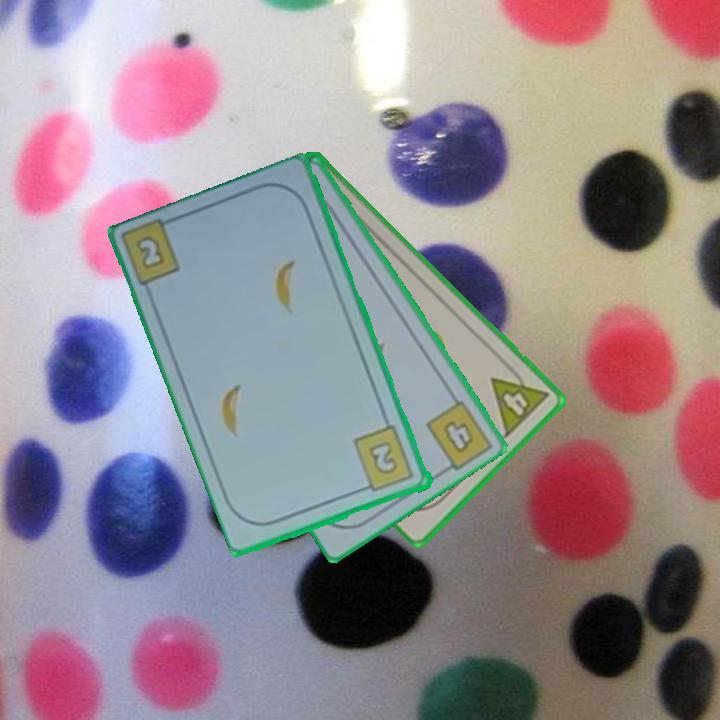2b: (350, 422, 418, 495), (132, 232, 168, 273)
4b: (440, 417, 478, 457)
4p: (487, 359, 552, 440)
